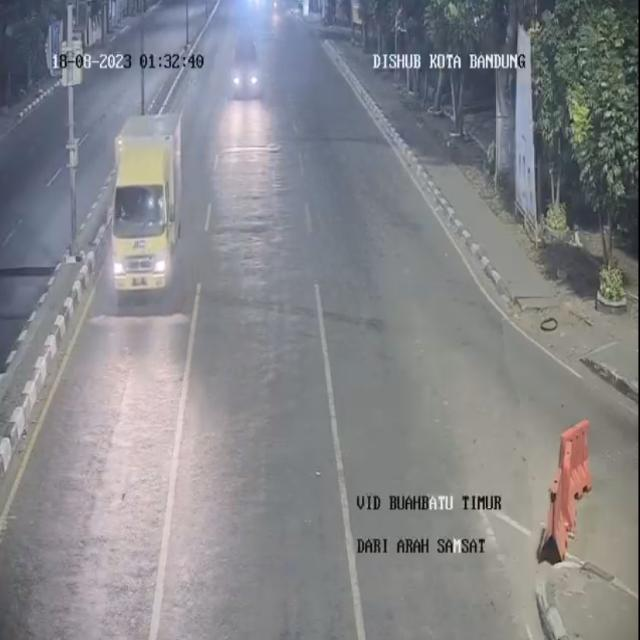cars: (230, 39, 267, 107)
truck: (112, 115, 187, 306)
